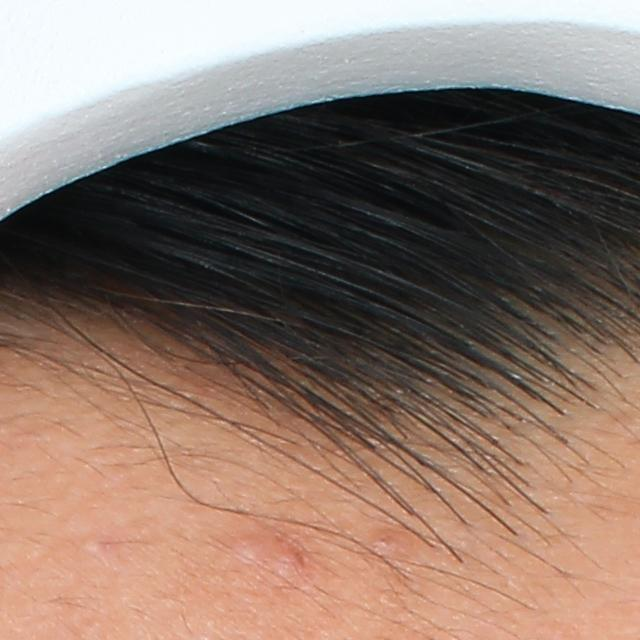papule: (266, 547, 307, 583)
